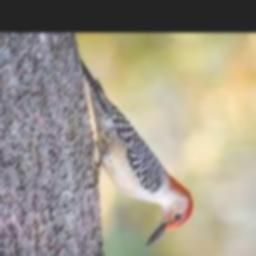Woodpecker: (78, 58, 194, 246)
